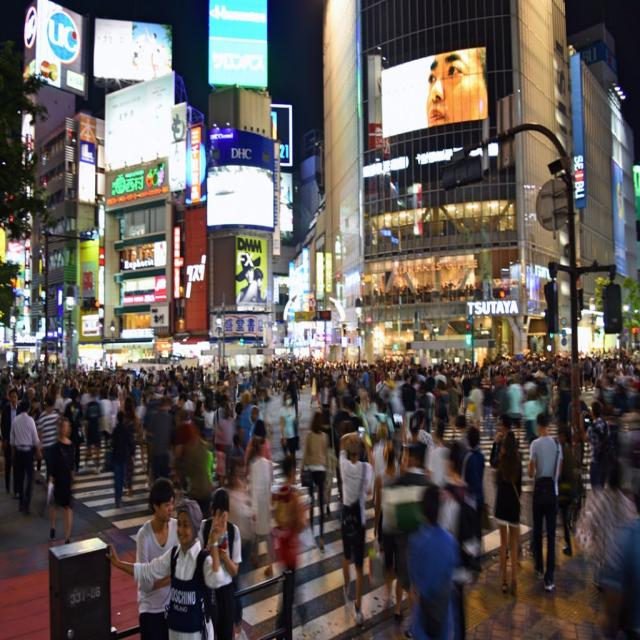body: (102, 496, 226, 639), (573, 455, 639, 639), (400, 480, 468, 639), (436, 440, 483, 639), (334, 426, 376, 626), (372, 410, 412, 618), (135, 476, 182, 640), (269, 453, 309, 640), (524, 410, 564, 594), (598, 465, 640, 639), (196, 485, 243, 640), (373, 440, 410, 624), (419, 42, 494, 129), (488, 428, 525, 597), (483, 350, 572, 413), (491, 427, 524, 564), (299, 409, 330, 554), (9, 396, 43, 519), (46, 416, 76, 546), (144, 394, 191, 472), (35, 392, 63, 511), (122, 360, 212, 395), (579, 401, 611, 490), (373, 420, 392, 565), (462, 425, 486, 536), (556, 427, 576, 558), (111, 410, 136, 509), (0, 356, 62, 392), (214, 362, 268, 403), (234, 245, 269, 308), (1, 387, 21, 497), (278, 391, 301, 486), (211, 393, 232, 489), (615, 378, 640, 456), (577, 348, 614, 399), (120, 394, 138, 498), (243, 417, 273, 478), (64, 386, 85, 472), (428, 419, 453, 489), (82, 386, 102, 469), (286, 354, 372, 373), (406, 408, 436, 456), (332, 393, 372, 426), (400, 372, 417, 437), (465, 376, 483, 436), (98, 387, 110, 474), (430, 359, 484, 378), (61, 361, 102, 386), (432, 364, 448, 424), (334, 371, 374, 394), (382, 372, 397, 427), (446, 378, 459, 440), (200, 393, 216, 443), (107, 384, 121, 436), (372, 357, 419, 372), (269, 351, 287, 390), (319, 377, 333, 426), (287, 371, 301, 420), (191, 400, 206, 441), (461, 369, 472, 423), (102, 360, 122, 387), (230, 401, 252, 425), (248, 406, 264, 438), (375, 372, 391, 404), (308, 371, 321, 409), (135, 396, 148, 428), (614, 347, 626, 380), (130, 378, 142, 408), (394, 369, 403, 405), (416, 376, 426, 405), (632, 343, 640, 379), (426, 368, 436, 394), (62, 376, 74, 397), (122, 375, 133, 396), (420, 359, 430, 378), (624, 358, 634, 376), (71, 377, 81, 392), (300, 371, 309, 383)
